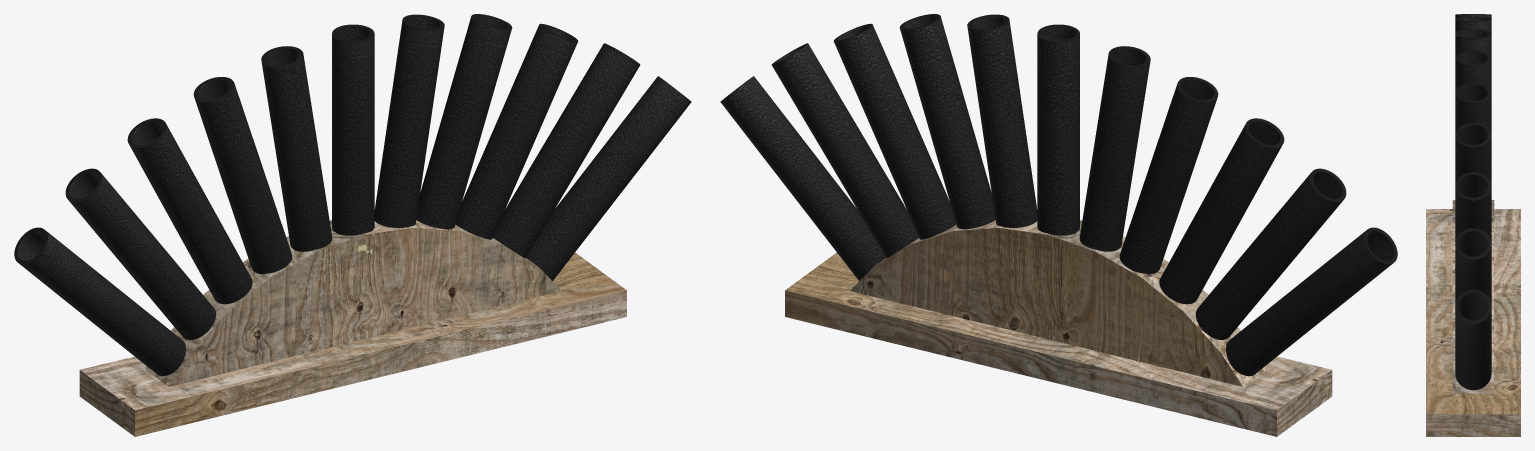
File: 11ShotMineRack.fbx
The picture shows the model from 3 angles, left to right: view 1: azimuth 30°, elevation 25°; view 2: azimuth 150°, elevation 25°; view 3: azimuth 270°, elevation 25°; orthographic projection. The views are drawn at different scales.
Visible parts, largest first — view 1: Circle, Cube, Cylinder.004, Cylinder.003, Cylinder.005, Cylinder.002, Cylinder.001, Cylinder.011, Cylinder.010, Cylinder.009, Cylinder.007, Cylinder.006 (+1 smaller); view 2: Circle, Cube, Cylinder.004, Cylinder.003, Cylinder.005, Cylinder.002, Cylinder.001, Cylinder.011, Cylinder.010, Cylinder.009, Cylinder.007, Cylinder.006 (+1 smaller); view 3: Cube, Cylinder.005, Cylinder.004, Cylinder.003, Cylinder.002, Circle, Cylinder.001, Cylinder.011, Cylinder.010, Cylinder.009, Cylinder.008.
Part boxes in pixels (x1,y1,x2,y2): Circle: [145, 220, 561, 386]; Cube: [79, 252, 626, 436]; Cylinder.004: [493, 43, 640, 258]; Cylinder.003: [455, 23, 578, 239]; Cylinder.005: [526, 76, 691, 280]; Cylinder.002: [416, 14, 512, 229]; Cylinder.001: [374, 14, 444, 227]; Cylinder.011: [332, 24, 374, 235]; Cylinder.010: [261, 46, 332, 251]; Cylinder.009: [193, 77, 292, 273]; Cylinder.007: [65, 168, 216, 339]; Cylinder.006: [14, 227, 185, 376]; Circle: [850, 220, 1266, 386]; Cube: [785, 252, 1332, 436]; Cylinder.004: [771, 43, 918, 258]; Cylinder.003: [833, 23, 956, 239]; Cylinder.005: [720, 76, 885, 280]; Cylinder.002: [899, 14, 995, 229]; Cylinder.001: [967, 14, 1037, 227]; Cylinder.011: [1037, 24, 1079, 235]; Cylinder.010: [1079, 46, 1150, 251]; Cylinder.009: [1119, 77, 1218, 273]; Cylinder.007: [1195, 168, 1346, 339]; Cylinder.006: [1226, 227, 1397, 376]; Cube: [1426, 209, 1520, 436]; Cylinder.005: [1455, 289, 1491, 390]; Cylinder.004: [1455, 228, 1491, 304]; Cylinder.003: [1455, 172, 1491, 241]; Cylinder.002: [1455, 122, 1491, 184]; Circle: [1452, 200, 1494, 393]; Cylinder.001: [1455, 82, 1491, 133]; Cylinder.011: [1455, 50, 1491, 91]; Cylinder.010: [1455, 29, 1491, 56]; Cylinder.009: [1455, 17, 1491, 32]; Cylinder.008: [1455, 14, 1491, 18].
Size of the model in its own units: 2.72 by 1.26 by 0.3903.
